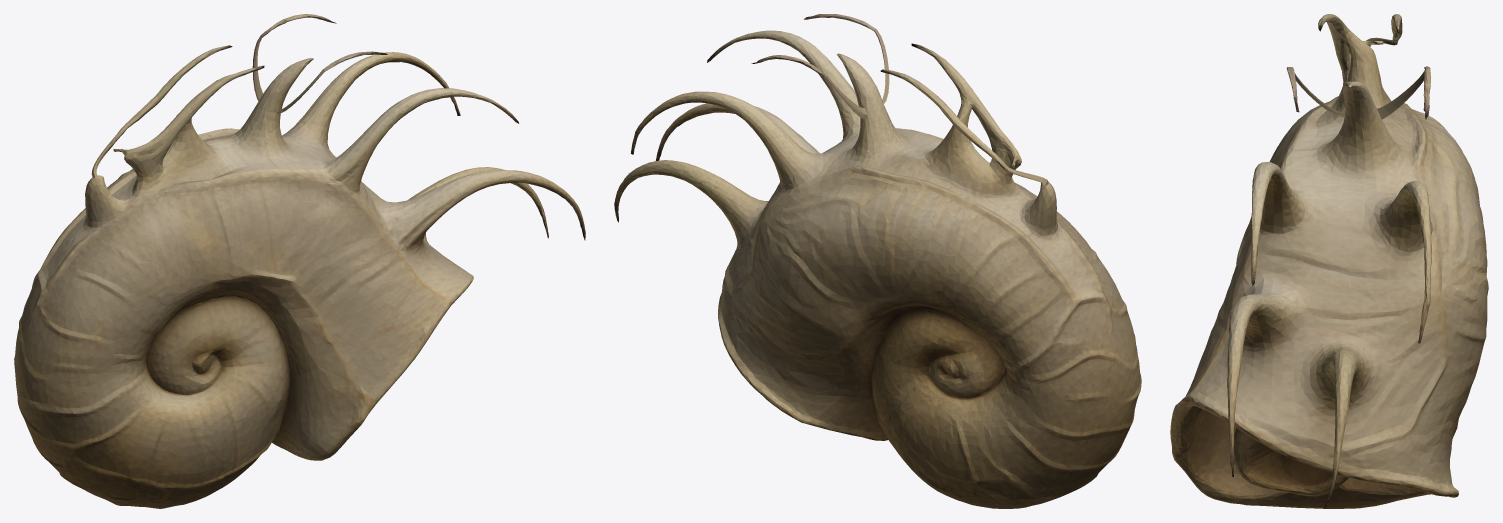
The picture shows the model from 3 angles, left to right: view 1: azimuth 30°, elevation 25°; view 2: azimuth 150°, elevation 25°; view 3: azimuth 270°, elevation 25°; orthographic projection. The views are drawn at different scales.
Visible parts, largest first — view 1: world; view 2: world; view 3: world.
Part boxes in pixels (x1,y1,x2,y2): world: [14, 14, 585, 508]; world: [614, 14, 1141, 508]; world: [1170, 14, 1488, 508].
Bounding box in the file's own units: 0.17 × 0.13 × 0.073.
2 materials, 2 textured.
